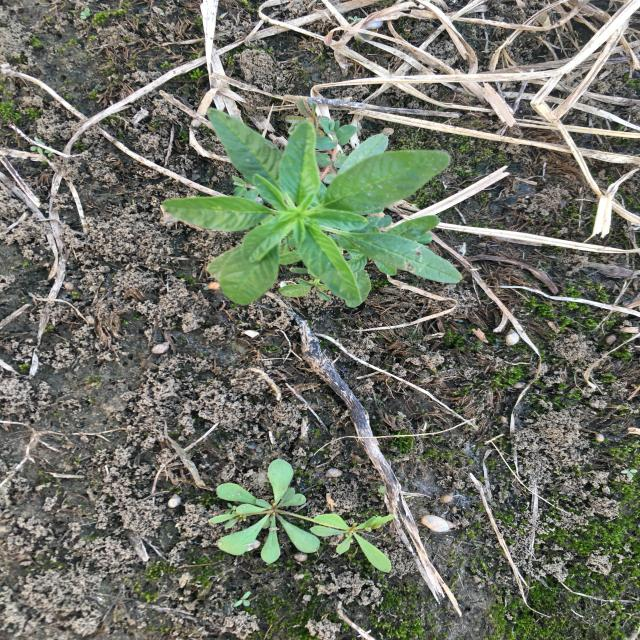Carpetweed: (205, 458, 398, 574)
Waterhemp: (160, 106, 465, 309)
